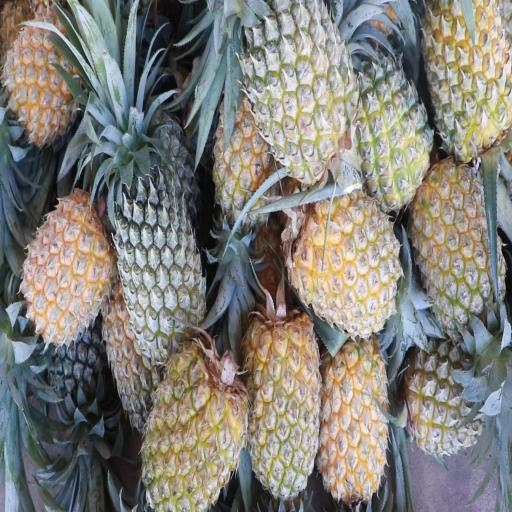------------------------------: (245, 0, 352, 175), (429, 0, 510, 163), (415, 172, 501, 322), (102, 278, 166, 432), (406, 343, 486, 457)
Pineapple - v8 v1: (141, 343, 250, 512), (300, 186, 401, 334), (18, 195, 114, 341), (246, 310, 320, 496), (2, 18, 92, 136), (356, 62, 431, 202), (320, 344, 385, 500), (215, 82, 279, 225)
